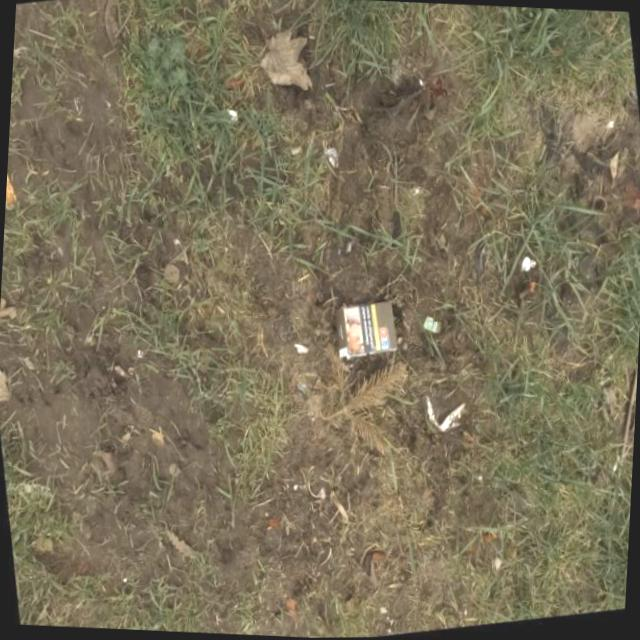Paper: (332, 296, 402, 364)
